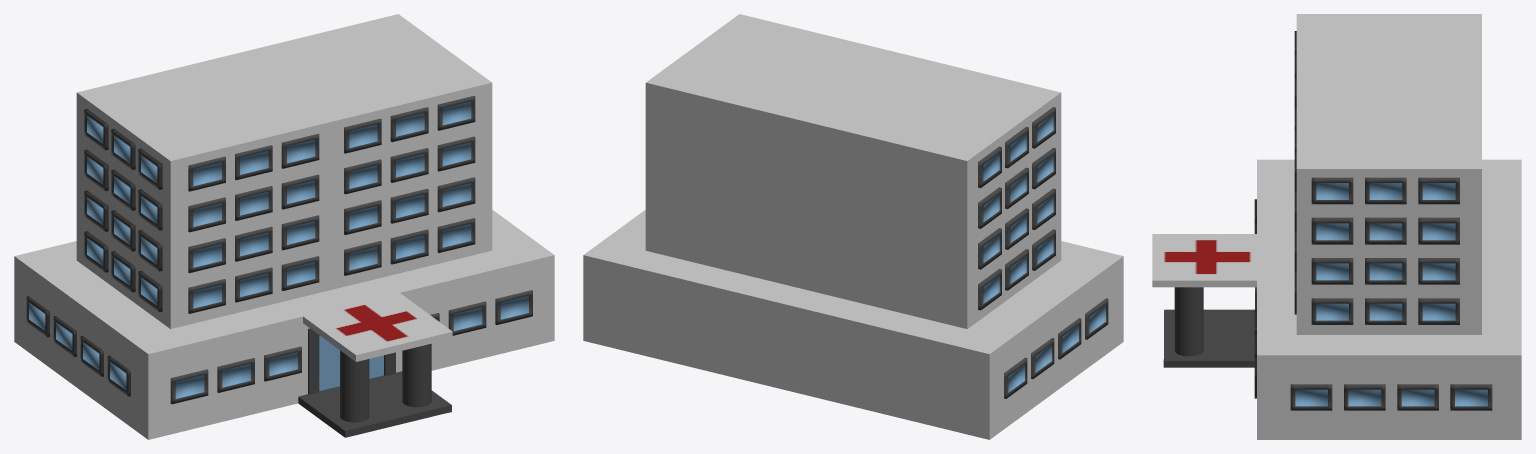
File: hospital.fbx
3 views of the same model, side by side, from view 1: azimuth 30°, elevation 25°; view 2: azimuth 150°, elevation 25°; view 3: azimuth 270°, elevation 25° (orthographic).
Parts seen in each view (by area): view 1: Cube.020, Cylinder.003, Cylinder.002, Cube.025; view 2: Cube.020; view 3: Cube.020, Cylinder.002.
Boxes of the visible parts, x1=… form: Cube.020: x1=14, y1=14, x2=554, y2=439; Cylinder.003: x1=340, y1=350, x2=369, y2=422; Cylinder.002: x1=402, y1=343, x2=431, y2=407; Cube.025: x1=319, y1=336, x2=339, y2=390; Cube.020: x1=583, y1=14, x2=1123, y2=439; Cube.020: x1=1152, y1=14, x2=1521, y2=439; Cylinder.002: x1=1174, y1=287, x2=1203, y2=356.
Size of the model in its own units: 2509 by 1480 by 1976.
